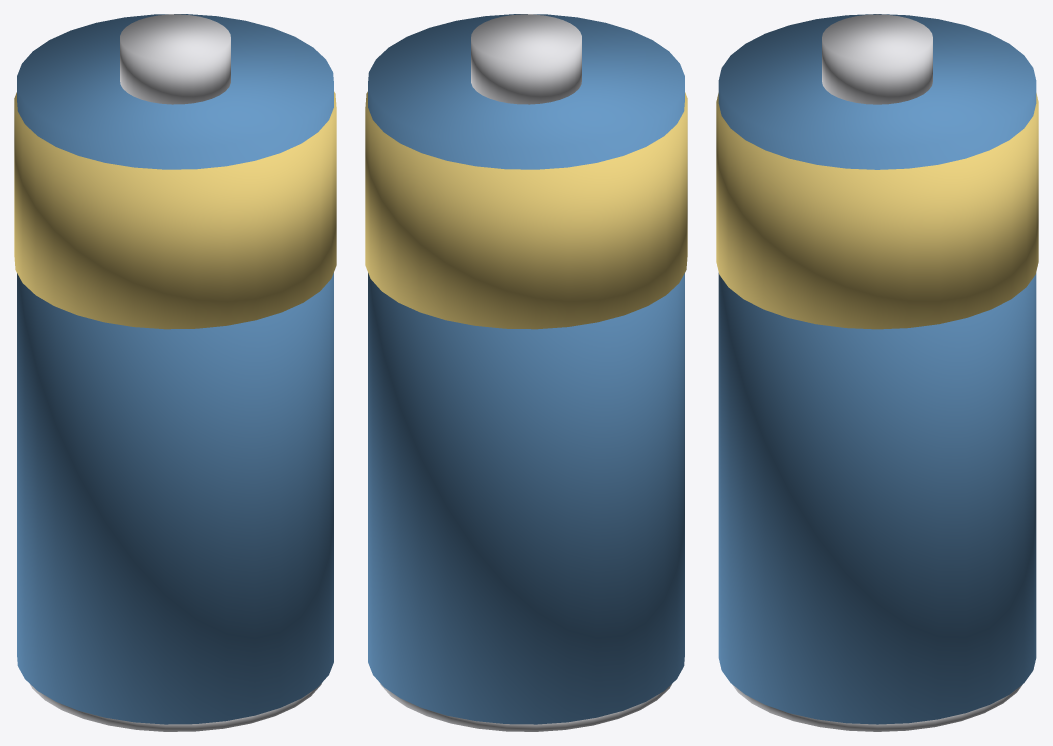
Rendered from battery.glb.
3 renders of one model, left to right at view 1: azimuth 30°, elevation 25°; view 2: azimuth 150°, elevation 25°; view 3: azimuth 270°, elevation 25°, orthographic.
Visible parts, largest first — view 1: shell, band, tip, base; view 2: shell, band, tip, base; view 3: shell, band, tip, base.
Part boxes in pixels (x1,y1,x2,y2): shell: [17, 14, 333, 724]; band: [14, 91, 336, 329]; tip: [120, 14, 230, 104]; base: [30, 683, 321, 731]; shell: [368, 14, 684, 724]; band: [365, 91, 687, 329]; tip: [471, 14, 581, 104]; base: [380, 683, 671, 731]; shell: [718, 14, 1036, 724]; band: [716, 93, 1038, 329]; tip: [822, 14, 932, 104]; base: [732, 684, 1022, 731].
Bounding box in the file's own units: 0.406 × 0.875 × 0.406.
